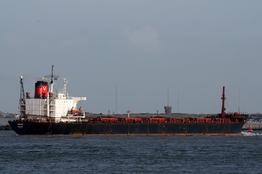Cargoship: (6, 64, 247, 137)
